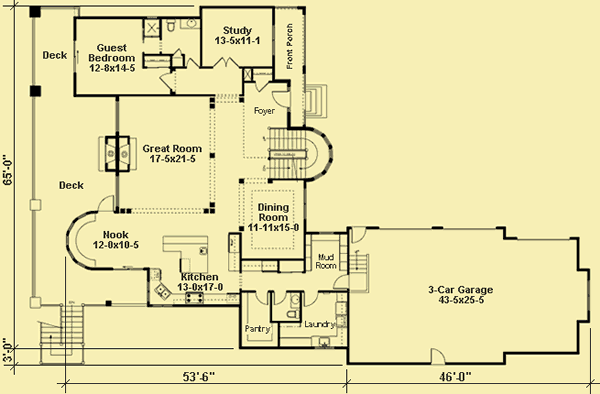door: (347, 224, 368, 244), (211, 56, 238, 71), (94, 194, 114, 214), (271, 89, 290, 109), (429, 347, 449, 365), (158, 70, 172, 92), (304, 289, 321, 306), (334, 272, 349, 289), (252, 290, 269, 305), (271, 291, 286, 307), (254, 79, 269, 93)
kitchen_bar: (159, 234, 210, 275)
large_sink: (164, 19, 179, 35), (284, 308, 299, 324)
small_sink: (178, 16, 199, 31)
stairs: (267, 126, 336, 185), (38, 303, 83, 364), (345, 249, 371, 294), (302, 81, 329, 121)
